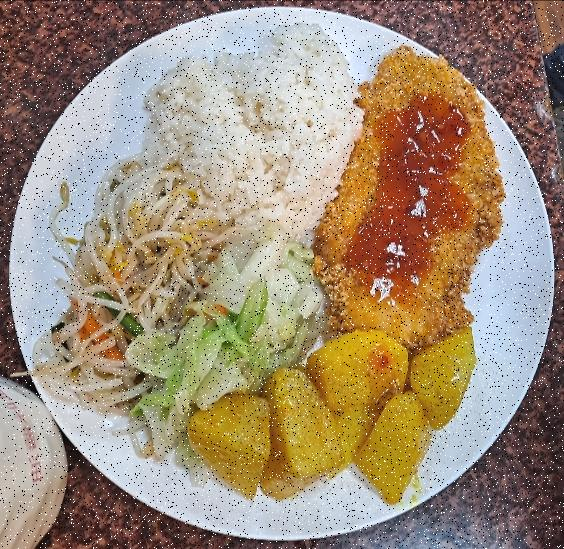plate: (0, 9, 559, 539)
side dish: (184, 326, 484, 504), (133, 218, 332, 456), (33, 162, 229, 402)
sweet and spicy chicken steak: (310, 37, 506, 348)
white rice: (143, 22, 364, 244)
